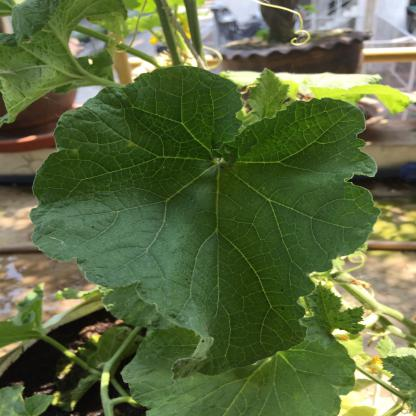Normal: (74, 66, 379, 368)
